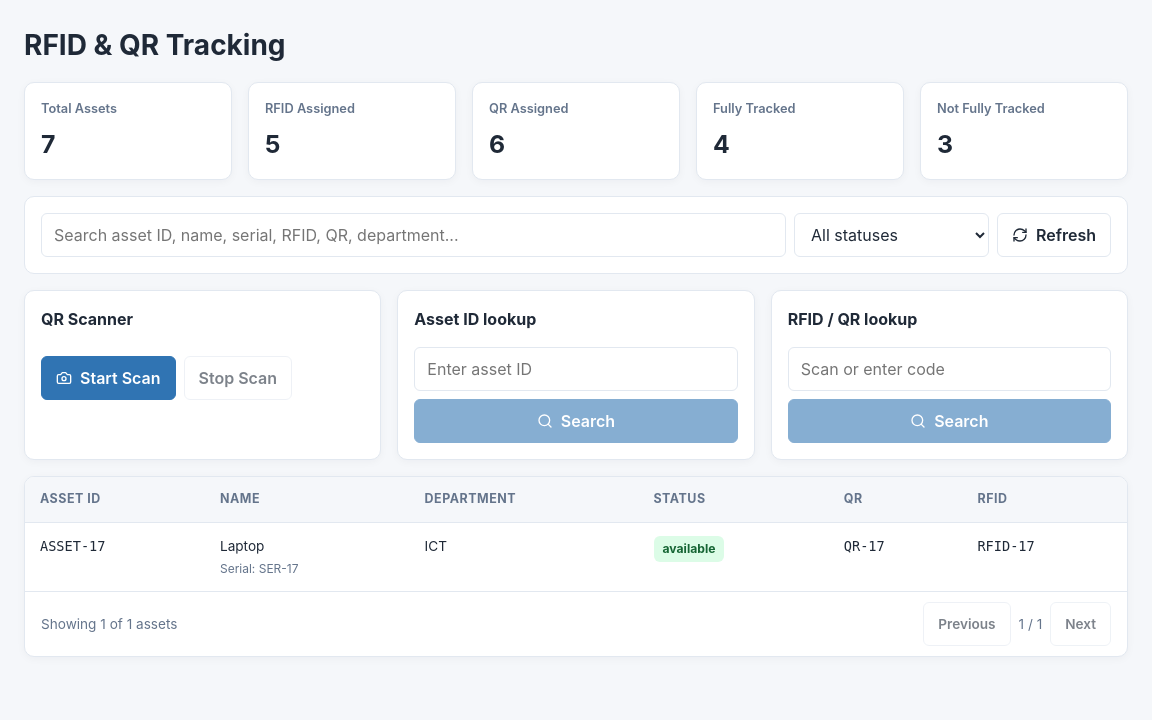
reports denied camera permission and provides an HTTPS requirement for remote insecure origins
This screenshot has width=1152, height=720.
Click the button "Start Scan". click: x=108, y=378
box: [41,356,176,400]
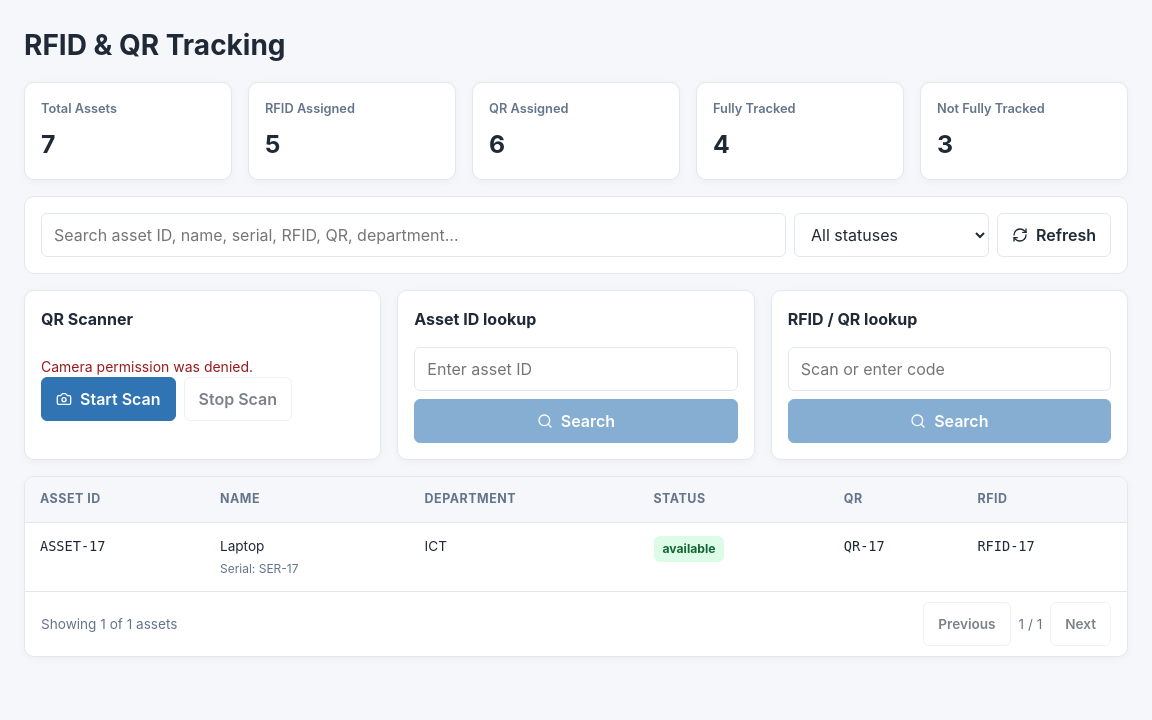
Check: the message reads "Camera permission was denied.", box [41,358,253,375]
